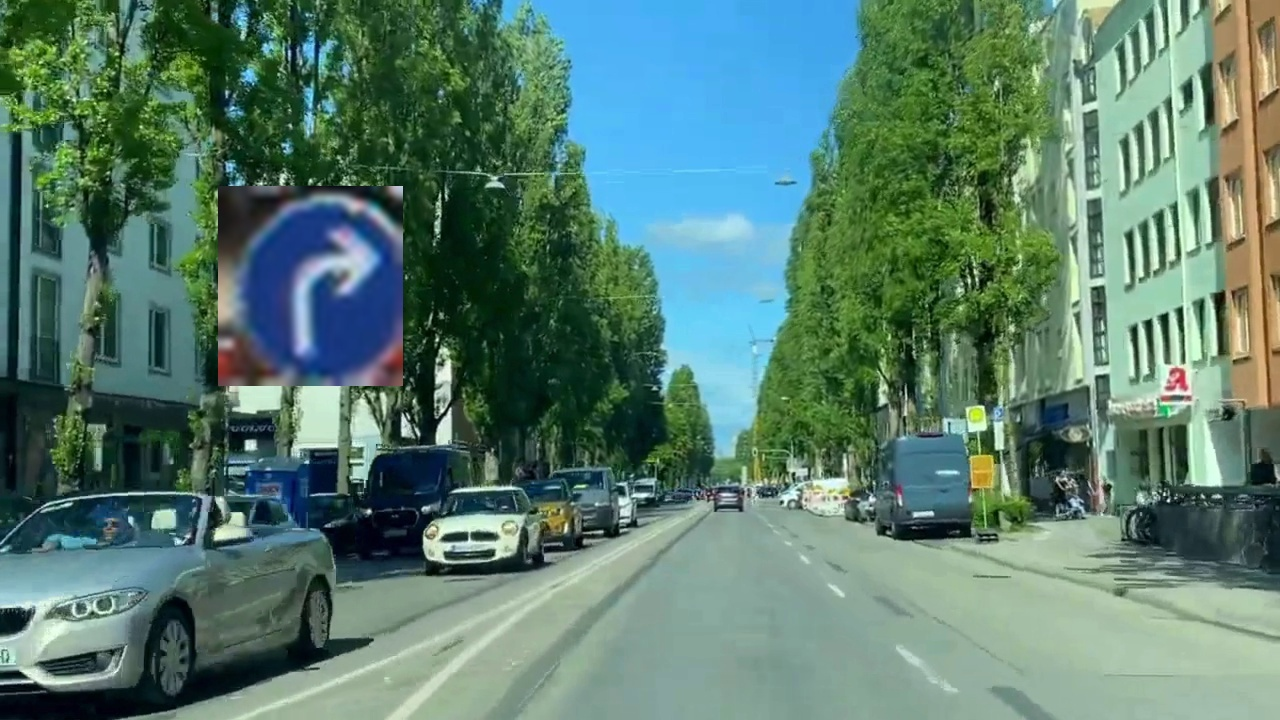Turn right: (218, 186, 403, 386)
